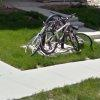Bicycle: (25, 12, 95, 58)
